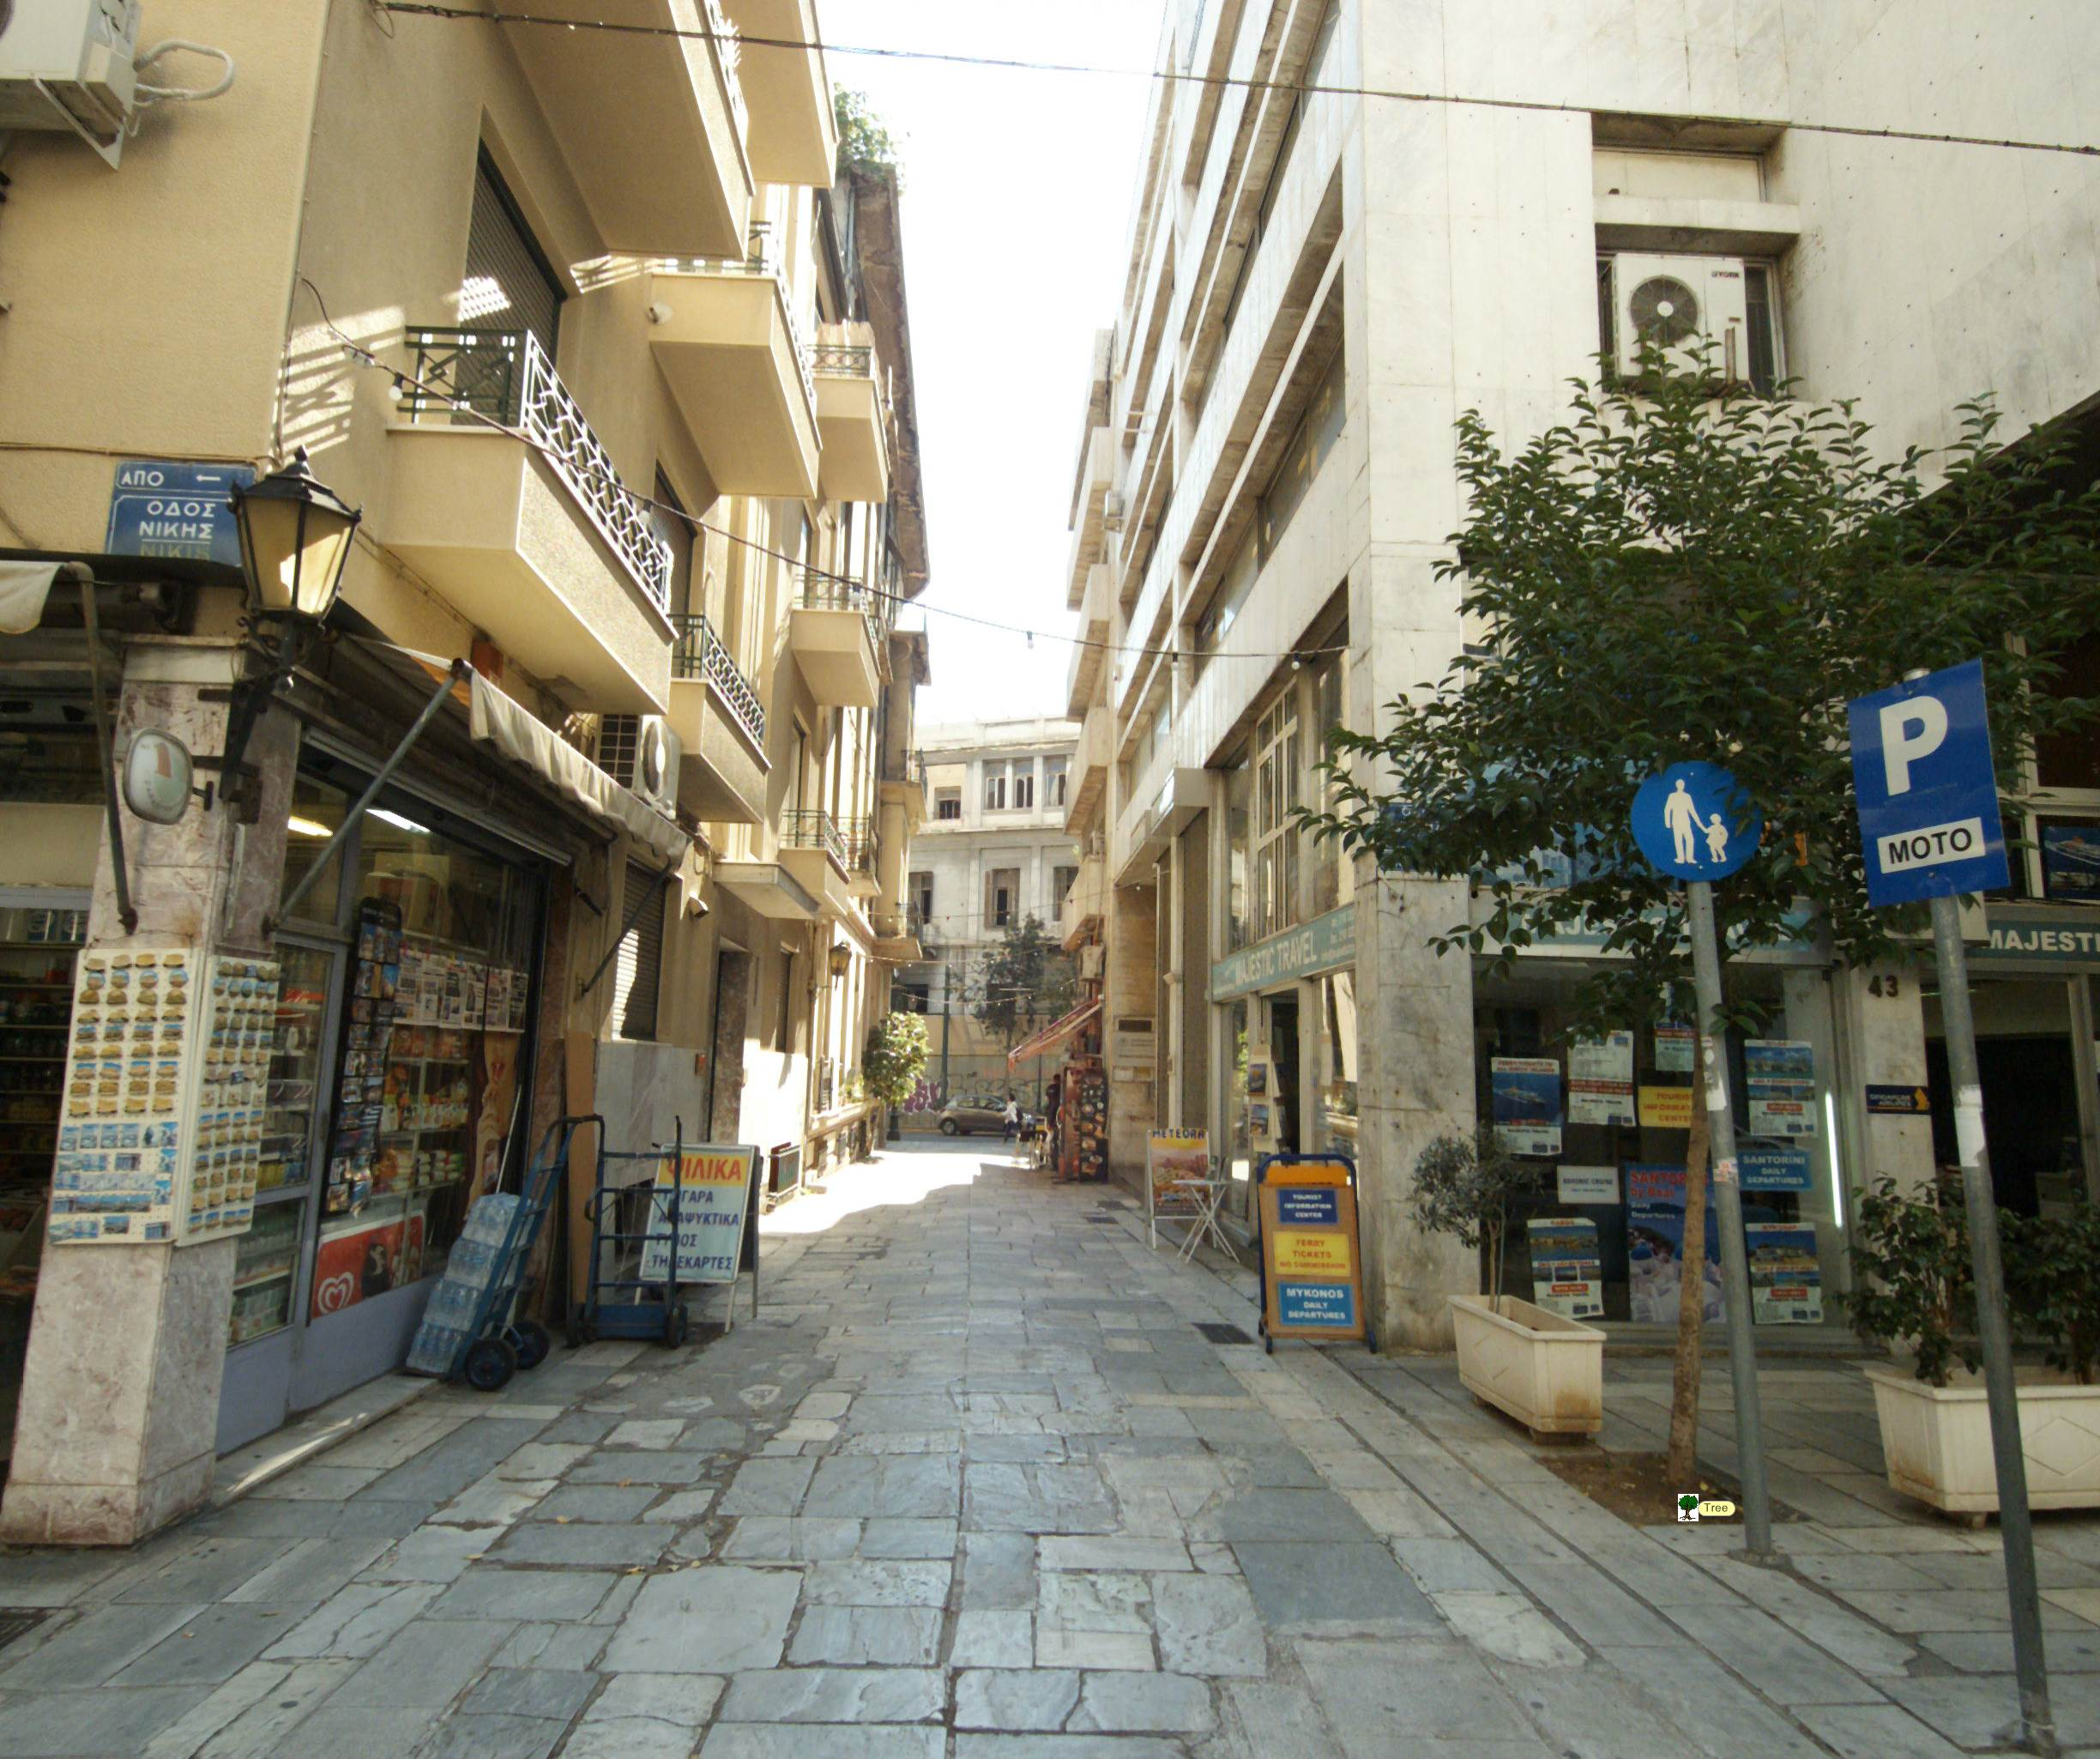tree: (1373, 382, 1929, 1590)
